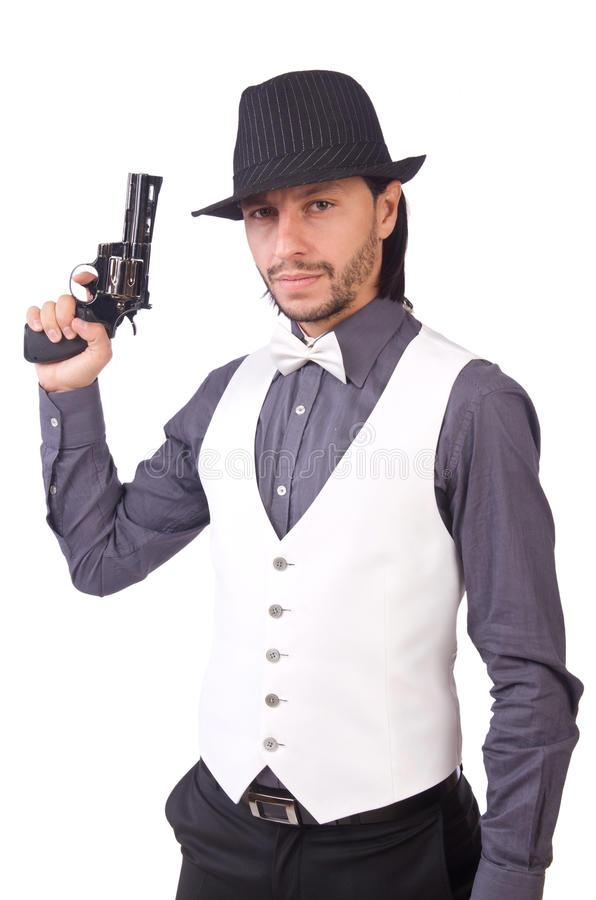criminal: (17, 64, 584, 900)
weapon: (19, 168, 164, 367)
